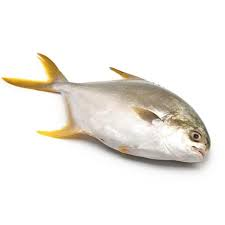Ikan Bawal: (7, 45, 215, 177)
